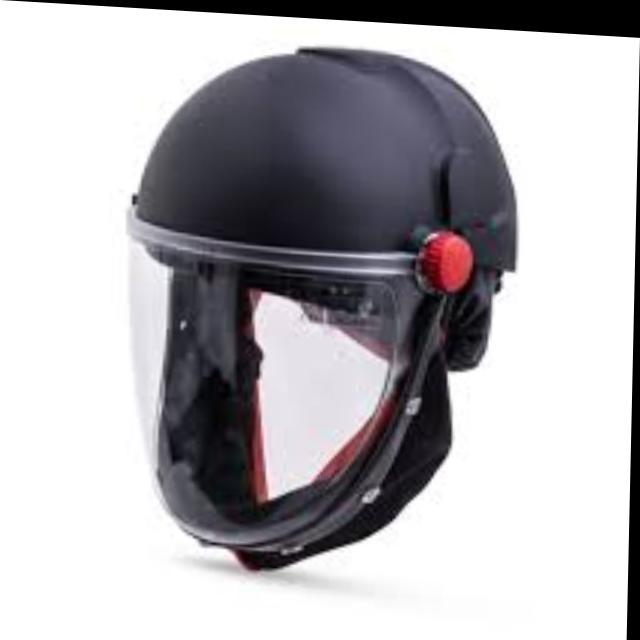motorcycle-helmets: (132, 47, 516, 567)
